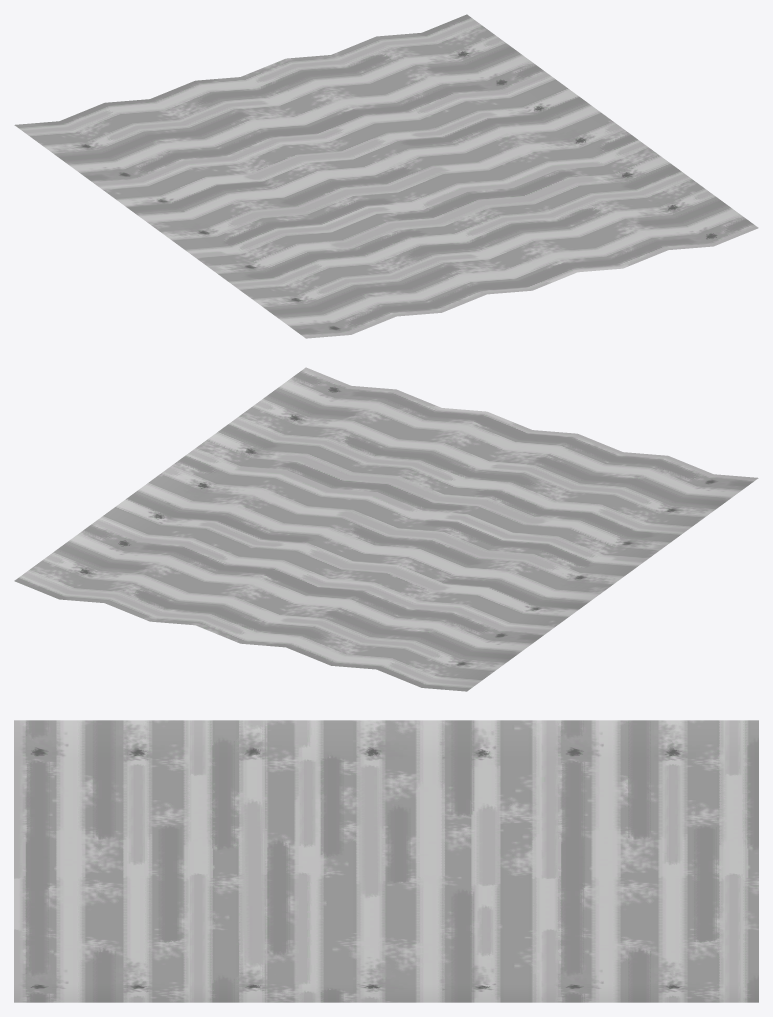
Rendered from Lid (1).fbx.
3 views of the same model, one above another, from view 1: azimuth 30°, elevation 25°; view 2: azimuth 150°, elevation 25°; view 3: azimuth 270°, elevation 25° (orthographic). The views are drawn at different scales.
Parts seen in each view (by area): view 1: Lid (1); view 2: Lid (1); view 3: Lid (1).
Boxes of the visible parts, x1,y1,x2,y2 form: Lid (1): [14, 14, 758, 338]; Lid (1): [14, 367, 758, 691]; Lid (1): [14, 720, 758, 1002].
Bounding box in the file's own units: 0.4911 × 0.00765 × 0.5482.
1 material, 1 textured.
